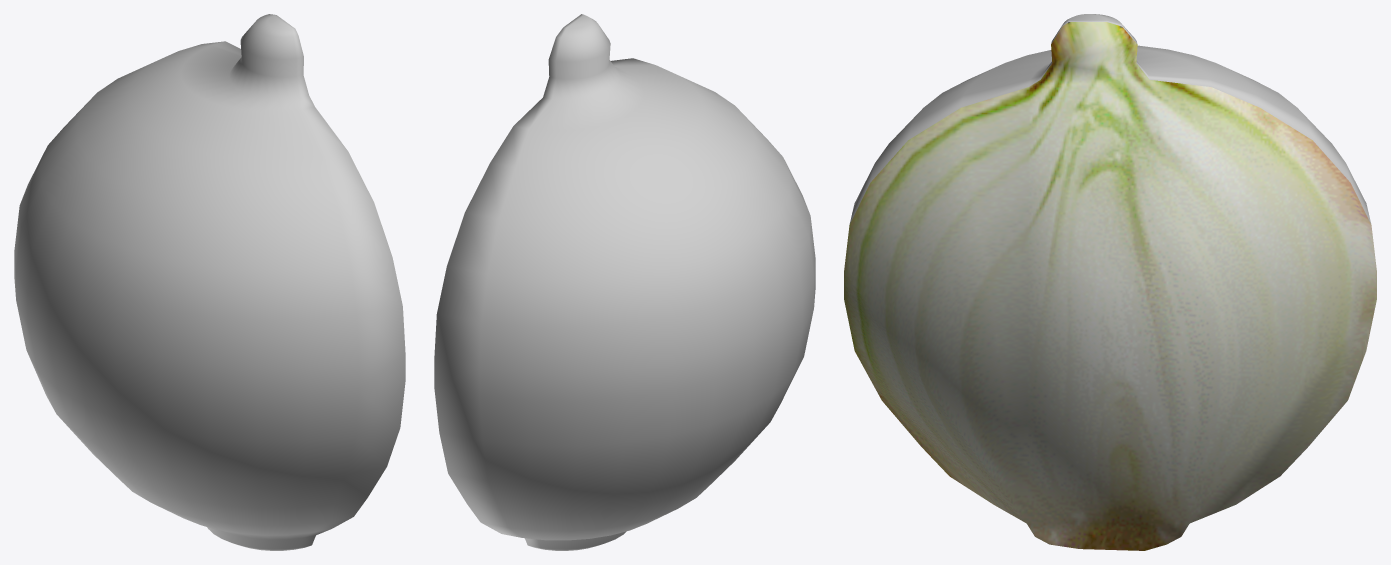
File: Onion-05.fbx
The picture shows the model from 3 angles, left to right: view 1: azimuth 30°, elevation 25°; view 2: azimuth 150°, elevation 25°; view 3: azimuth 270°, elevation 25°; orthographic projection. The views are drawn at different scales.
Visible parts, largest first — view 1: Onion; view 2: Onion; view 3: Onion.
Part boxes in pixels (<box>): Onion: <box>14,14,405,550</box>; Onion: <box>434,14,815,550</box>; Onion: <box>844,14,1376,550</box>.
Size of the model in its own units: 36.55 by 80.07 by 73.09.
